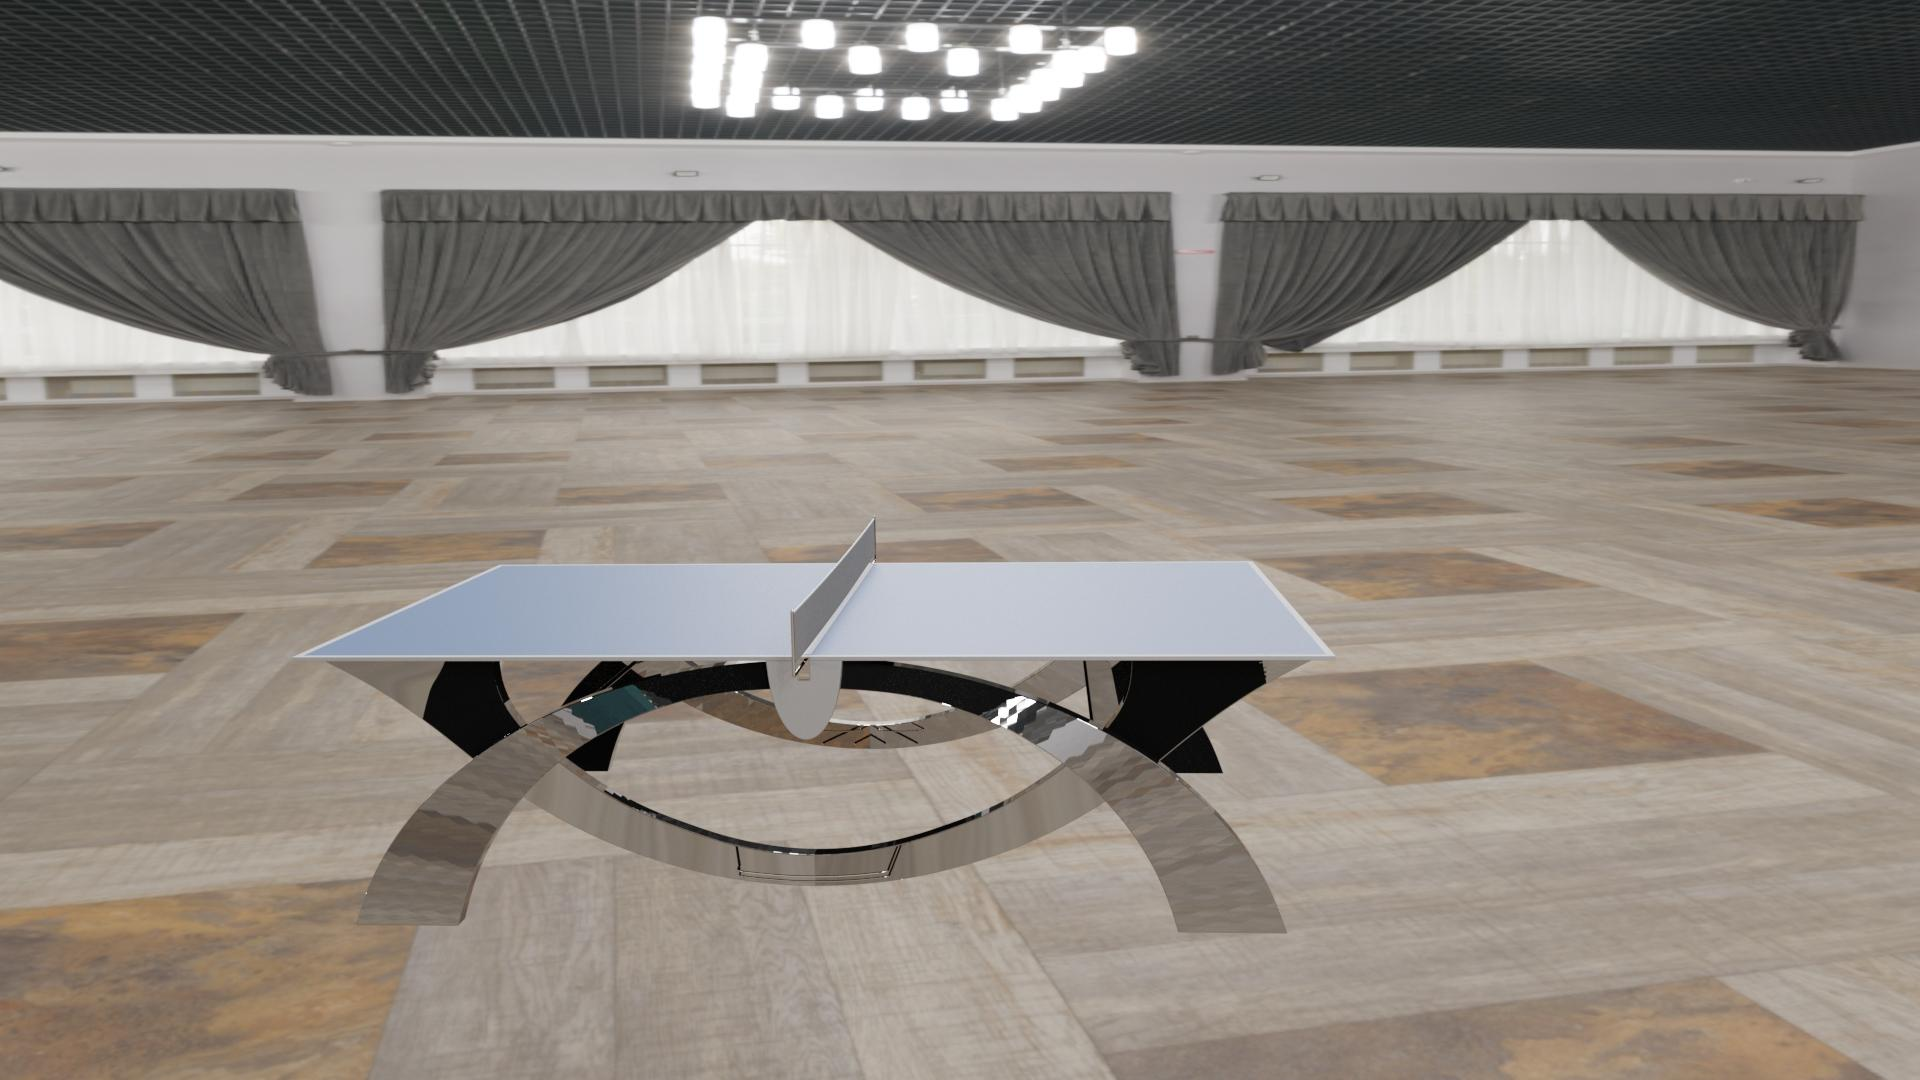table: (303, 562, 1327, 655)
